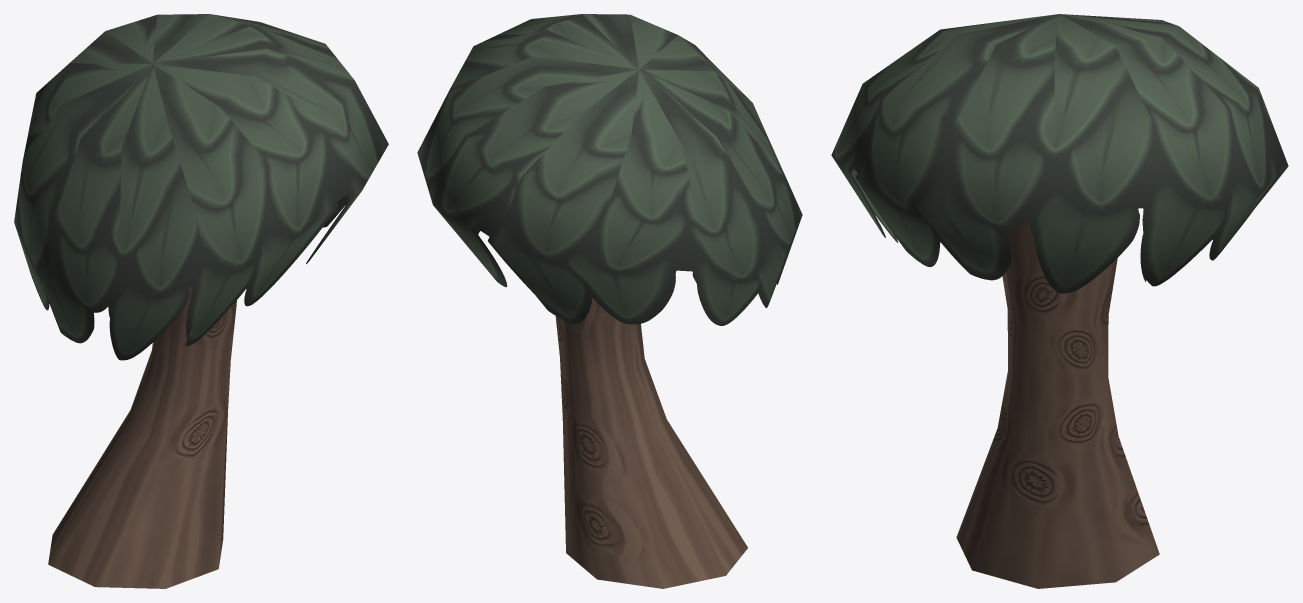
The model's file is tree_b_02.FBX.
3 views of the same model, side by side, from view 1: azimuth 30°, elevation 25°; view 2: azimuth 150°, elevation 25°; view 3: azimuth 270°, elevation 25° (orthographic). The views are drawn at different scales.
Visible parts, largest first — view 1: tree_b_02; view 2: tree_b_02; view 3: tree_b_02.
Part boxes in pixels (x1,y1,x2,y2): tree_b_02: (14,14,388,588); tree_b_02: (417,14,802,588); tree_b_02: (831,14,1288,588).
Bounding box in the file's own units: 30.78 × 45.19 × 33.5.
Materials: 2 (2 with a texture image).
